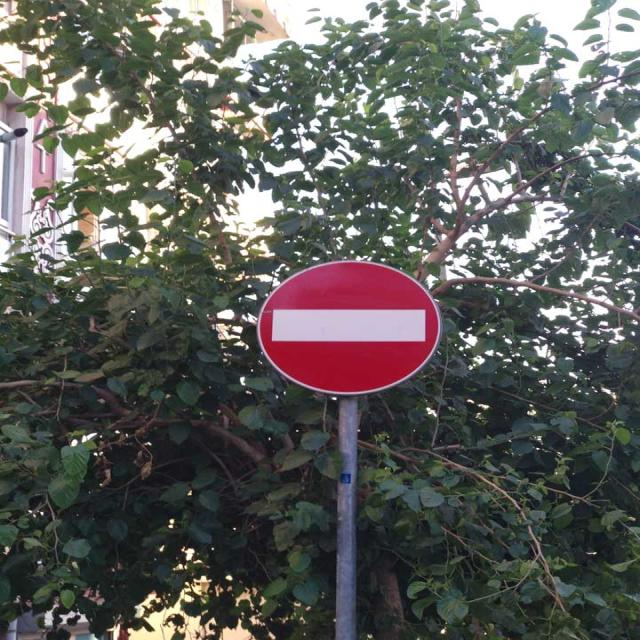girisyok: (257, 259, 443, 395)
